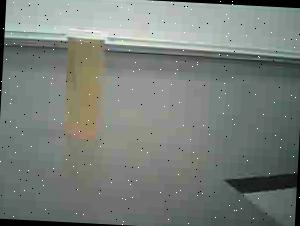Bottle A: (54, 19, 110, 147)
